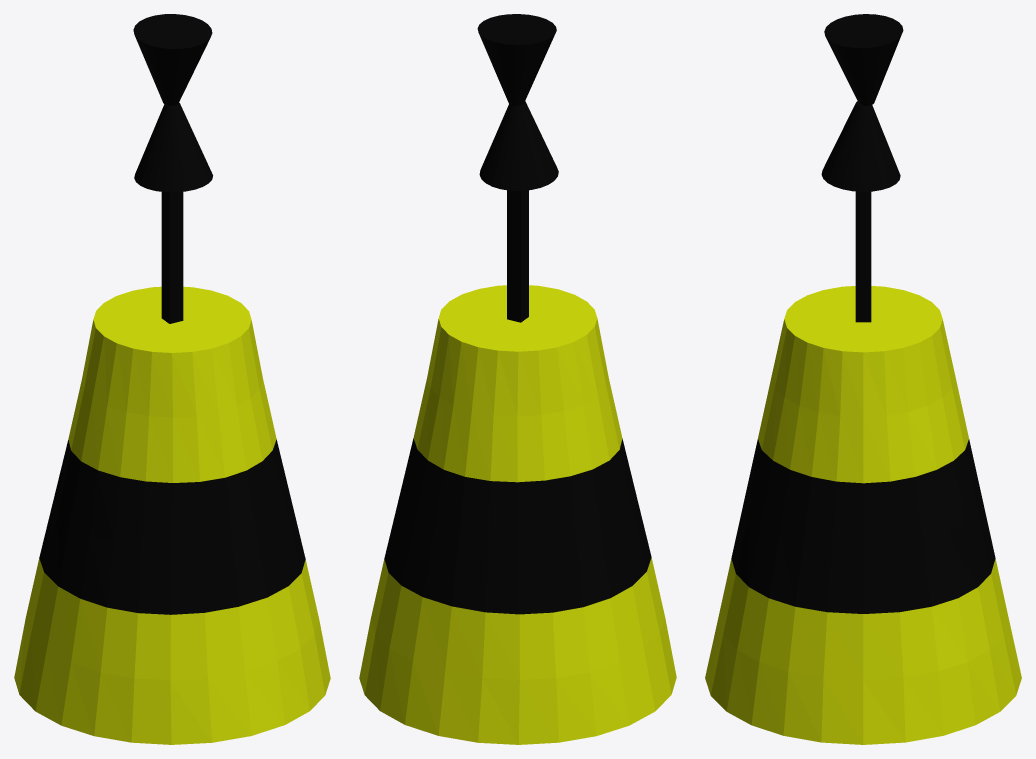
File: west.dae
3 views of the same model, side by side, from view 1: azimuth 30°, elevation 25°; view 2: azimuth 150°, elevation 25°; view 3: azimuth 270°, elevation 25° (orthographic).
Parts seen in each view (by area): view 1: Cone01-FAC; view 2: Cone01-FAC; view 3: Cone01-FAC.
Part boxes in pixels (bbox=[...]): Cone01-FAC: bbox=[14, 14, 330, 744]; Cone01-FAC: bbox=[359, 14, 676, 744]; Cone01-FAC: bbox=[705, 14, 1021, 744].
Size of the model in its own units: 1.02 by 1.02 by 2.29.
